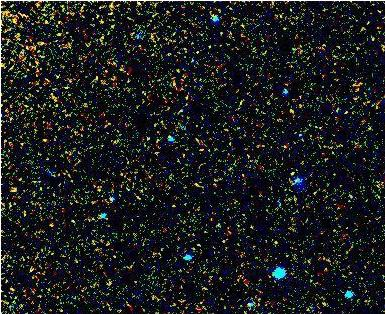star: (0, 175, 28, 205)
